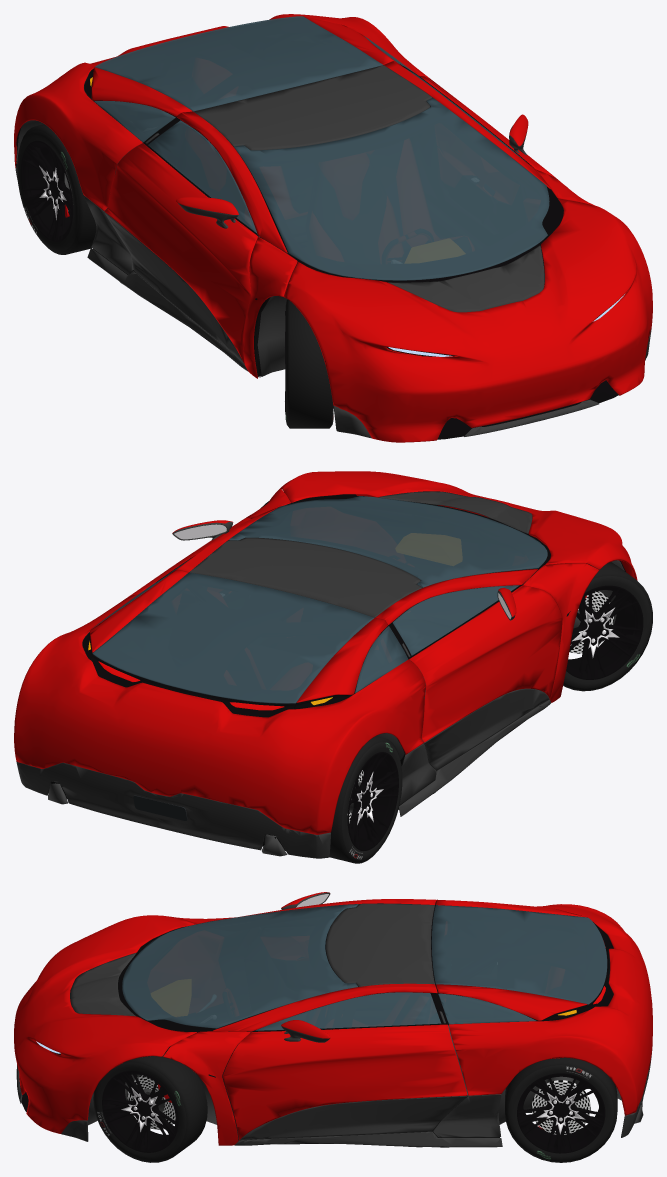
Rendered from rally-gt.glb.
3 views of the same model, one above another, from view 1: azimuth 30°, elevation 25°; view 2: azimuth 150°, elevation 25°; view 3: azimuth 270°, elevation 25° (orthographic). The views are drawn at different scales.
Visible parts, largest first — view 1: BodyRearPanelsColor1, BodyWindshield, BodyRoofPanel, WheelFrontR-Tread, WheelRearR-WheelRearRRim, BodyWindshieldGasket, WheelRearR-Tread, BodyUnderside; view 2: BodyRearPanelsColor1, BodyWindshield, BodyRoofPanel, WheelFrontR-WheelFrontRRim, WheelRearR-WheelRearRRim, BodyWindshieldGasket, WheelRearR-Tread, WheelFrontR-Tread, BodyUnderside, License Plate, BodyDoorRMirror; view 3: BodyRearPanelsColor1, BodyWindshield, BodyRoofPanel, WheelFrontL-Tread, WheelRearL-WheelRearLRim, WheelFrontL-WheelFrontLRim, WheelRearL-Tread, BodyWindshieldGasket, BodyUnderside, WheelRearL-WheelRearLBrakeDisc, WheelFrontL-WheelFrontLBrakeDisc, InteriorMid.
Boxes of the visible parts, x1=… form: BodyRearPanelsColor1: x1=14, y1=14, x2=652, y2=442; BodyWindshield: x1=94, y1=16, x2=549, y2=280; BodyRoofPanel: x1=15, y1=65, x2=651, y2=438; WheelFrontR-Tread: x1=285, y1=299, x2=333, y2=428; WheelRearR-WheelRearRRim: x1=20, y1=140, x2=73, y2=241; BodyWindshieldGasket: x1=16, y1=64, x2=618, y2=439; WheelRearR-Tread: x1=17, y1=124, x2=96, y2=254; BodyUnderside: x1=16, y1=120, x2=287, y2=377; BodyRearPanelsColor1: x1=14, y1=471, x2=637, y2=834; BodyWindshield: x1=92, y1=496, x2=547, y2=703; BodyRoofPanel: x1=16, y1=491, x2=550, y2=858; WheelFrontR-WheelFrontRRim: x1=566, y1=585, x2=643, y2=679; WheelRearR-WheelRearRRim: x1=347, y1=752, x2=398, y2=850; BodyWindshieldGasket: x1=83, y1=494, x2=625, y2=753; WheelRearR-Tread: x1=329, y1=736, x2=402, y2=863; WheelFrontR-Tread: x1=563, y1=562, x2=652, y2=691; BodyUnderside: x1=48, y1=560, x2=624, y2=856; License Plate: x1=133, y1=795, x2=187, y2=820; BodyDoorRMirror: x1=174, y1=524, x2=511, y2=618; BodyRearPanelsColor1: x1=14, y1=892, x2=652, y2=1145; BodyWindshield: x1=122, y1=904, x2=607, y2=1030; BodyRoofPanel: x1=16, y1=892, x2=652, y2=1147; WheelFrontL-Tread: x1=93, y1=1054, x2=207, y2=1162; WheelRearL-WheelRearLRim: x1=517, y1=1073, x2=605, y2=1153; WheelFrontL-WheelFrontLRim: x1=102, y1=1070, x2=178, y2=1152; WheelRearL-Tread: x1=505, y1=1057, x2=617, y2=1162; BodyWindshieldGasket: x1=19, y1=901, x2=613, y2=1144; BodyUnderside: x1=87, y1=1025, x2=643, y2=1125; WheelRearL-WheelRearLBrakeDisc: x1=531, y1=1080, x2=590, y2=1134; WheelFrontL-WheelFrontLBrakeDisc: x1=127, y1=1075, x2=175, y2=1129; InteriorMid: x1=208, y1=1031, x2=499, y2=1143.
Bounding box in the file's own units: 2.54 × 1.15 × 4.36.
Materials: 23 (4 with a texture image).
